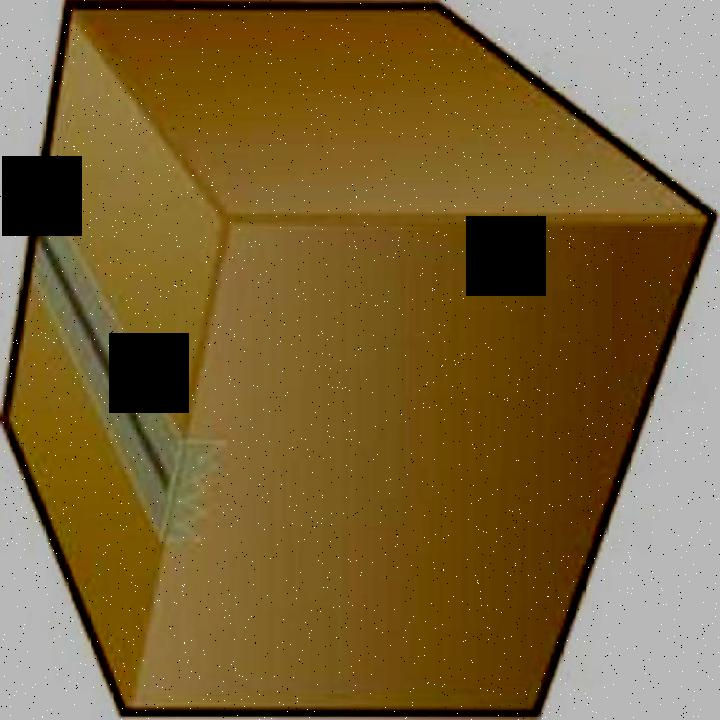box: (10, 1, 720, 717)
